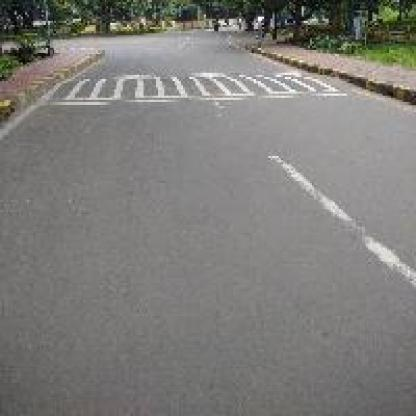Speed Bump: (32, 67, 350, 106)
